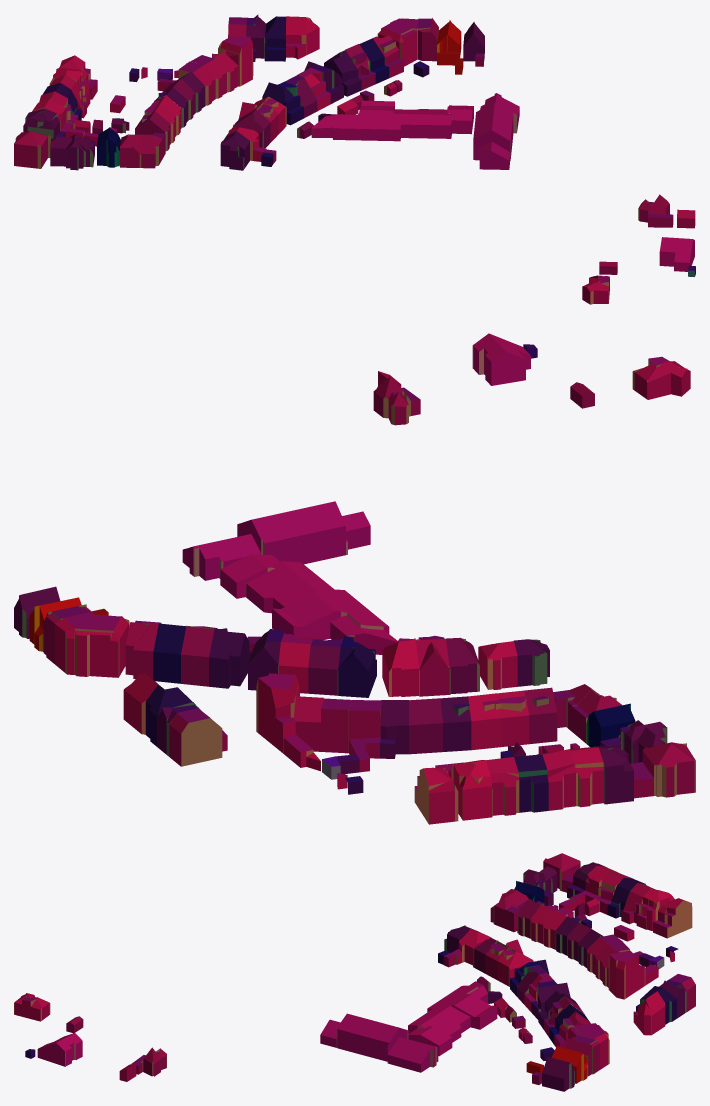
The model's file is buildings_4_10.glb.
The picture shows the model from 3 angles, top to bottom: view 1: azimuth 30°, elevation 25°; view 2: azimuth 150°, elevation 25°; view 3: azimuth 270°, elevation 25°; orthographic projection. The views are drawn at different scales.
Visible parts, largest first — view 1: buildings_4_10; view 2: buildings_4_10; view 3: buildings_4_10.
Boxes of the visible parts, x1=… form: buildings_4_10: x1=14, y1=14, x2=695, y2=304; buildings_4_10: x1=14, y1=333, x2=695, y2=824; buildings_4_10: x1=14, y1=853, x2=695, y2=1091.
Bounding box in the file's own units: 157 × 12.28 × 208.
